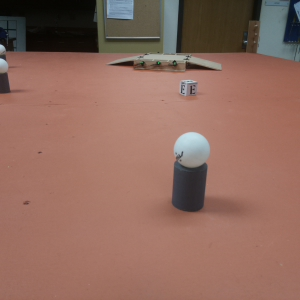obstacle: (173, 131, 209, 215), (1, 62, 11, 96), (1, 44, 7, 61)
side: (133, 58, 185, 72)
slope: (188, 54, 222, 73), (107, 53, 136, 69)
